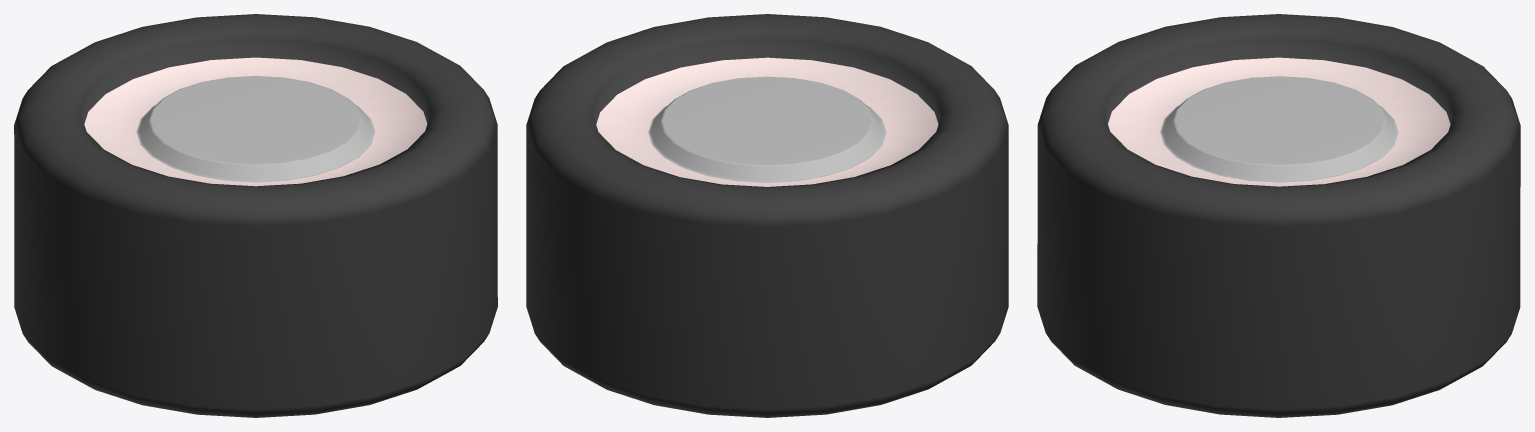
Rendered from Public_5_Wheel_1.glb.
3 renders of one model, left to right at view 1: azimuth 30°, elevation 25°; view 2: azimuth 150°, elevation 25°; view 3: azimuth 270°, elevation 25°, orthographic.
Parts seen in each view (by area): view 1: Public_5_Wheel_1; view 2: Public_5_Wheel_1; view 3: Public_5_Wheel_1.
Part boxes in pixels (x1,y1,x2,y2): Public_5_Wheel_1: (14,14,497,417); Public_5_Wheel_1: (526,14,1008,417); Public_5_Wheel_1: (1037,14,1520,417).
Bounding box in the file's own units: 2.04 × 1.03 × 2.04.
1 material, 1 textured.
